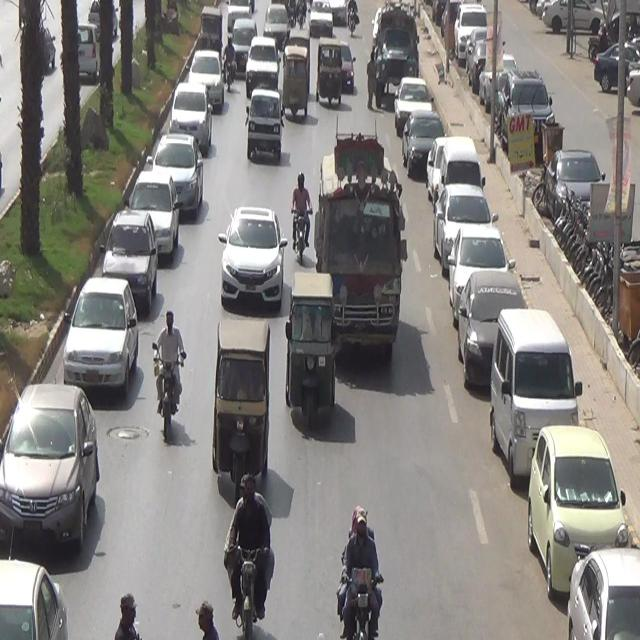car: (0, 371, 101, 560), (53, 266, 145, 414), (216, 208, 284, 300), (126, 168, 181, 274), (95, 222, 159, 302), (160, 78, 213, 167), (146, 128, 196, 217), (189, 40, 229, 120), (240, 36, 279, 87)
motorbike: (223, 475, 279, 628), (333, 514, 397, 638), (154, 309, 187, 432), (287, 168, 314, 266)
truck: (239, 76, 291, 160)
